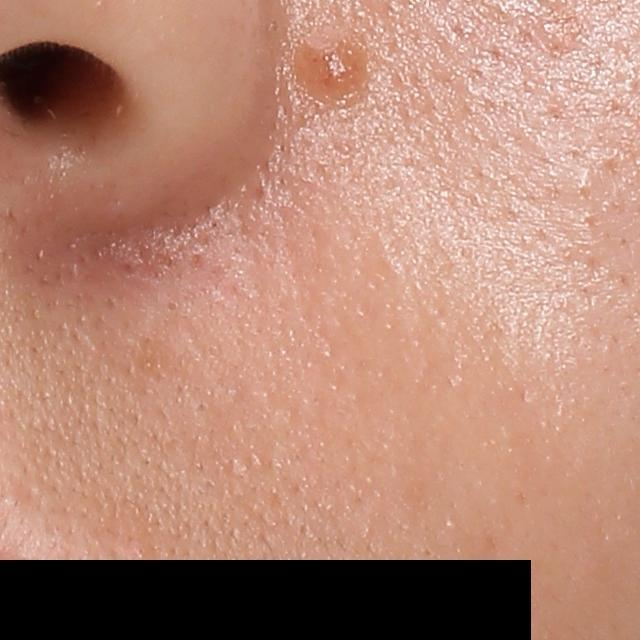nevus: (297, 23, 375, 105)
